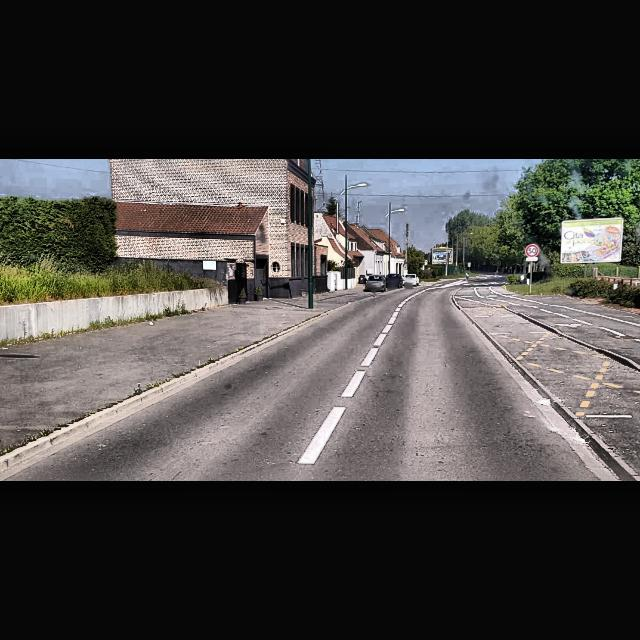speed_50: (526, 245, 538, 257)
